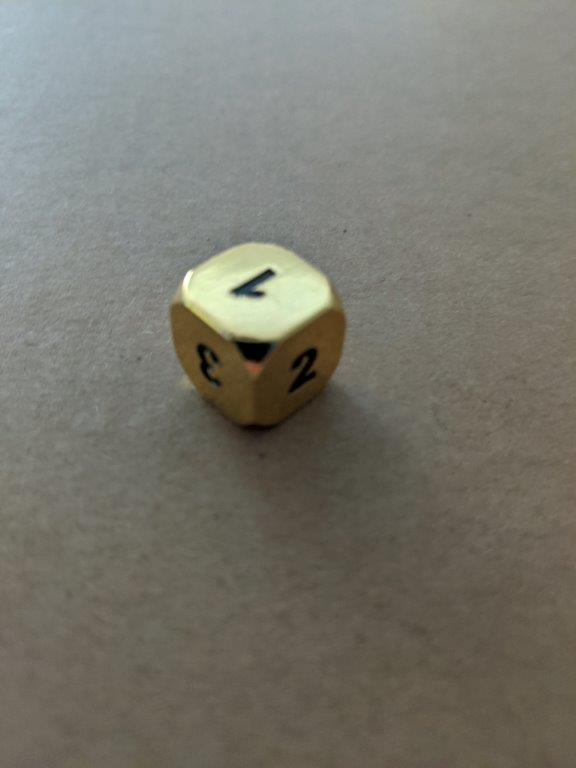d6-1: (168, 241, 346, 426)
